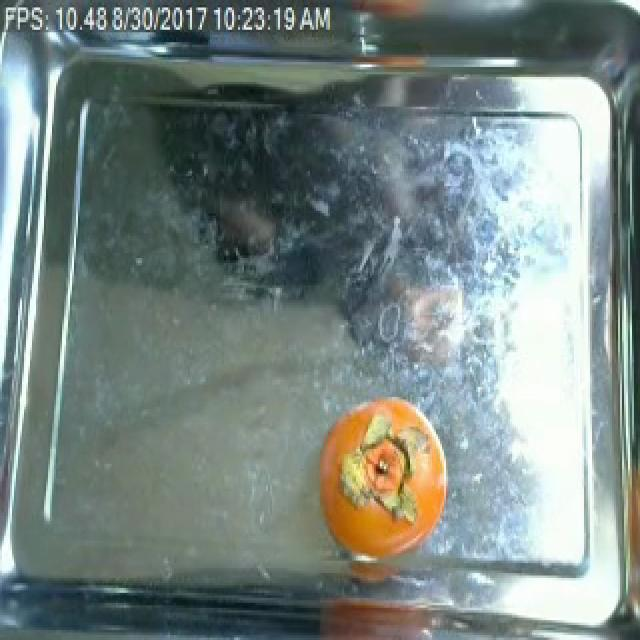Fruit: (312, 390, 452, 570), (312, 588, 448, 640), (338, 0, 434, 27)
